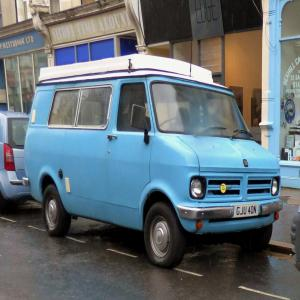Vehicle-registration-plate: (231, 203, 259, 220)
